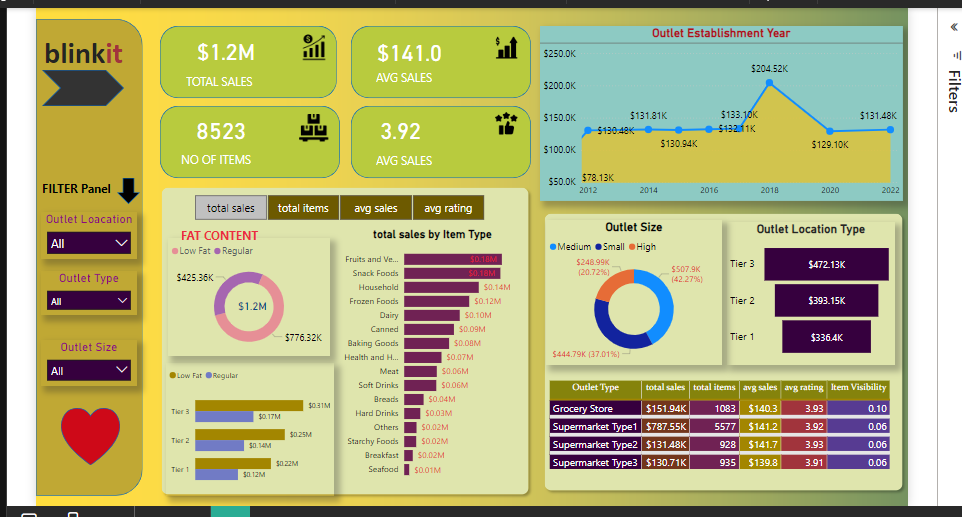

This screenshot's page, from the dashboard's own definition file:
{"tool":"powerbi","page":{"name":"Page 1","canvas":[1400,800],"ordinal":0},"visuals":[{"type":"shape","box":[506.1,29.4,289,115.9],"z":0,"group":"g1"},{"type":"shape","box":[0,18,171.4,765.7],"z":0},{"type":"card","fields":{"Values":["Measure_table.avg sales"]},"box":[512.5,47.1,175.1,46.6],"z":1000,"group":"g1"},{"type":"shape","box":[199.2,156.7,289,115.9],"z":1000},{"type":"textbox","box":[542,94.1,132.2,42.2],"z":2000,"group":"g1"},{"type":"shape","box":[506.1,156.7,289,115.9],"z":2000},{"type":"shape","box":[199.2,29.4,284.1,115.9],"z":3000},{"type":"image","box":[716.7,41.4,78.4,46.7],"z":3002,"group":"g1"},{"type":"textbox","box":[8.2,37.6,156.7,83.3],"z":4000},{"type":"card","fields":{"Values":["Measure_table.total items"]},"box":[220.4,163.3,155.1,62],"z":5000},{"type":"card","fields":{"Values":["Measure_table.avg rating"]},"box":[520.8,163.3,130.6,62],"z":6000},{"type":"textbox","box":[228.6,225.3,138.8,45.7],"z":7000},{"type":"textbox","box":[542,226.9,132.2,45.7],"z":8000},{"type":"card","fields":{"Values":["Measure_table.total sales"]},"box":[218.5,36.9,173.5,62.7],"z":9000},{"type":"textbox","box":[236.7,99.6,137.1,45.7],"z":10000},{"type":"image","box":[409.8,37.6,73.5,52.2],"z":11000},{"type":"group","id":"g1","title":"Group 1","box":[506.1,29.4,289,115.9],"z":12000},{"type":"image","box":[409.8,163.3,73.5,57.1],"z":13000},{"type":"shape","box":[192.8,279.5,607.2,510.8],"z":14000},{"type":"image","box":[716.7,161.6,78.4,45.7],"z":15000},{"type":"slicer","fields":{"Values":["select_measure.select_measure"]},"box":[229.7,294,514.1,53],"z":16000},{"type":"donutChart","fields":{"Y":["Measure_table.total sales"],"Category":["BlinkIT Grocery Data.Item Fat Content"]},"box":[212,369.5,260.2,189.6],"z":17000},{"type":"textbox","box":[228.6,347.8,145.3,40.8],"z":18000},{"type":"card","fields":{"Values":["Measure_table.total sales"]},"box":[305.3,449,84.9,60.4],"z":19000},{"type":"clusteredBarChart","fields":{"Y":["Measure_table.total sales"],"Category":["BlinkIT Grocery Data.Outlet Location Type"],"Series":["BlinkIT Grocery Data.Item Fat Content"]},"box":[208.8,570.3,269.9,213.7],"z":20000},{"type":"shape","box":[808,321.3,592.8,462.7],"z":21000},{"type":"clusteredBarChart","fields":{"Y":["Measure_table.total sales"],"Category":["BlinkIT Grocery Data.Item Type"]},"box":[475.5,351.8,322.9,412.9],"z":22000},{"type":"areaChart","title":"Outlet Establishment Year","fields":{"Category":["BlinkIT Grocery Data.Outlet Establishment Year"],"Y":["Measure_table.total sales"]},"box":[809.8,29.4,582.9,280.8],"z":23000},{"type":"funnel","title":"Outlet Location Type","fields":{"Category":["BlinkIT Grocery Data.Outlet Location Type"],"Y":["Measure_table.total sales"]},"box":[1110,343.8,269.9,229.7],"z":24000},{"type":"donutChart","title":"Outlet Size","fields":{"Category":["BlinkIT Grocery Data.Outlet Size"],"Y":["Measure_table.total sales"]},"box":[819.3,340.6,282.7,232.9],"z":25000},{"type":"tableEx","fields":{"Values":["BlinkIT Grocery Data.Outlet Type","Measure_table.total sales","Measure_table.total items","Measure_table.avg sales","Measure_table.avg rating","Avg(BlinkIT Grocery Data.Item Visibility)"]},"box":[819.3,589.6,581.5,175.1],"z":26000},{"type":"slicer","title":"Outlet Loacation","fields":{"Values":["BlinkIT Grocery Data.Outlet Location Type"]},"box":[8,327.7,154.2,76],"z":26001},{"type":"slicer","title":"Outlet Type","fields":{"Values":["BlinkIT Grocery Data.Outlet Type"]},"box":[8,427.3,154.2,70.7],"z":26002},{"type":"slicer","title":"Outlet Size","fields":{"Values":["BlinkIT Grocery Data.Outlet Size"]},"box":[8,533.3,154.2,73.9],"z":26003},{"type":"textbox","box":[4.8,271.5,125.3,41.8],"z":26004},{"type":"shape","box":[130.1,273.1,36.9,41.8],"z":26005},{"type":"shape","box":[9.6,99.6,131.7,57.8],"z":26006},{"type":"shape","box":[35.3,647.4,94.8,91.6],"z":26007}]}

Visuals, with their boxes on the page's 1400x800 design canvas (x1, y1, x2, y2). These are canvas units, not pixel positions in the 962x517 screenshot, which may show the page scaled, cropped or inside an application window:
shape: bbox(506, 29, 795, 145)
shape: bbox(0, 18, 171, 784)
card - Measure_table.avg sales: bbox(512, 47, 688, 94)
shape: bbox(199, 157, 488, 273)
textbox: bbox(542, 94, 674, 136)
shape: bbox(506, 157, 795, 273)
shape: bbox(199, 29, 483, 145)
image: bbox(717, 41, 795, 88)
textbox: bbox(8, 38, 165, 121)
card - Measure_table.total items: bbox(220, 163, 376, 225)
card - Measure_table.avg rating: bbox(521, 163, 651, 225)
textbox: bbox(229, 225, 367, 271)
textbox: bbox(542, 227, 674, 273)
card - Measure_table.total sales: bbox(218, 37, 392, 100)
textbox: bbox(237, 100, 374, 145)
image: bbox(410, 38, 483, 90)
"Group 1" group: bbox(506, 29, 795, 145)
image: bbox(410, 163, 483, 220)
shape: bbox(193, 280, 800, 790)
image: bbox(717, 162, 795, 207)
slicer - select_measure.select_measure: bbox(230, 294, 744, 347)
donutChart - Measure_table.total sales x BlinkIT Grocery Data.Item Fat Content: bbox(212, 370, 472, 559)
textbox: bbox(229, 348, 374, 389)
card - Measure_table.total sales: bbox(305, 449, 390, 509)
clusteredBarChart - Measure_table.total sales x BlinkIT Grocery Data.Outlet Location Type: bbox(209, 570, 479, 784)
shape: bbox(808, 321, 1401, 784)
clusteredBarChart - Measure_table.total sales x BlinkIT Grocery Data.Item Type: bbox(476, 352, 798, 765)
"Outlet Establishment Year" areaChart: bbox(810, 29, 1393, 310)
"Outlet Location Type" funnel: bbox(1110, 344, 1380, 574)
"Outlet Size" donutChart: bbox(819, 341, 1102, 574)
tableEx - BlinkIT Grocery Data.Outlet Type x Measure_table.total sales: bbox(819, 590, 1401, 765)
"Outlet Loacation" slicer: bbox(8, 328, 162, 404)
"Outlet Type" slicer: bbox(8, 427, 162, 498)
"Outlet Size" slicer: bbox(8, 533, 162, 607)
textbox: bbox(5, 272, 130, 313)
shape: bbox(130, 273, 167, 315)
shape: bbox(10, 100, 141, 157)
shape: bbox(35, 647, 130, 739)
